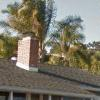Chimney: (15, 24, 43, 78)
